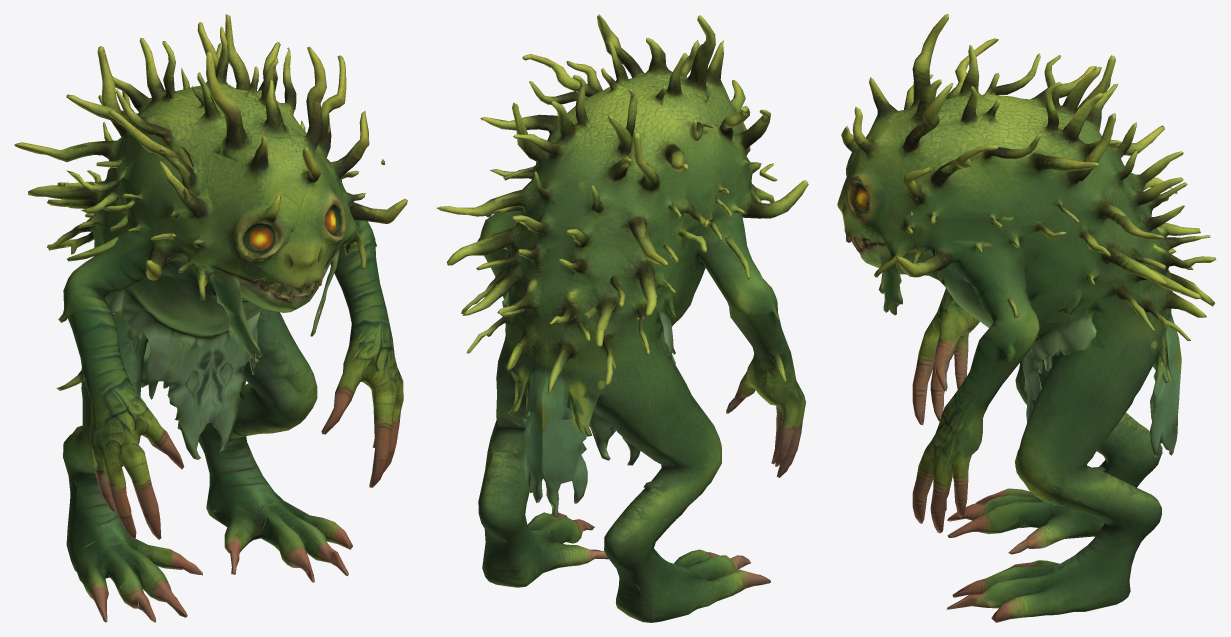
The model's file is prop_4112.glb.
3 renders of one model, left to right at view 1: azimuth 30°, elevation 25°; view 2: azimuth 150°, elevation 25°; view 3: azimuth 270°, elevation 25°, orthographic. The views are drawn at different scales.
Parts seen in each view (by area): view 1: prop_4112_mesh; view 2: prop_4112_mesh; view 3: prop_4112_mesh.
Part boxes in pixels (x1,y1,x2,y2): prop_4112_mesh: (14,14,407,622); prop_4112_mesh: (436,14,808,622); prop_4112_mesh: (837,14,1216,622).
Bounding box in the file's own units: 1.15 × 1.91 × 1.23.
1 material, 1 textured.
